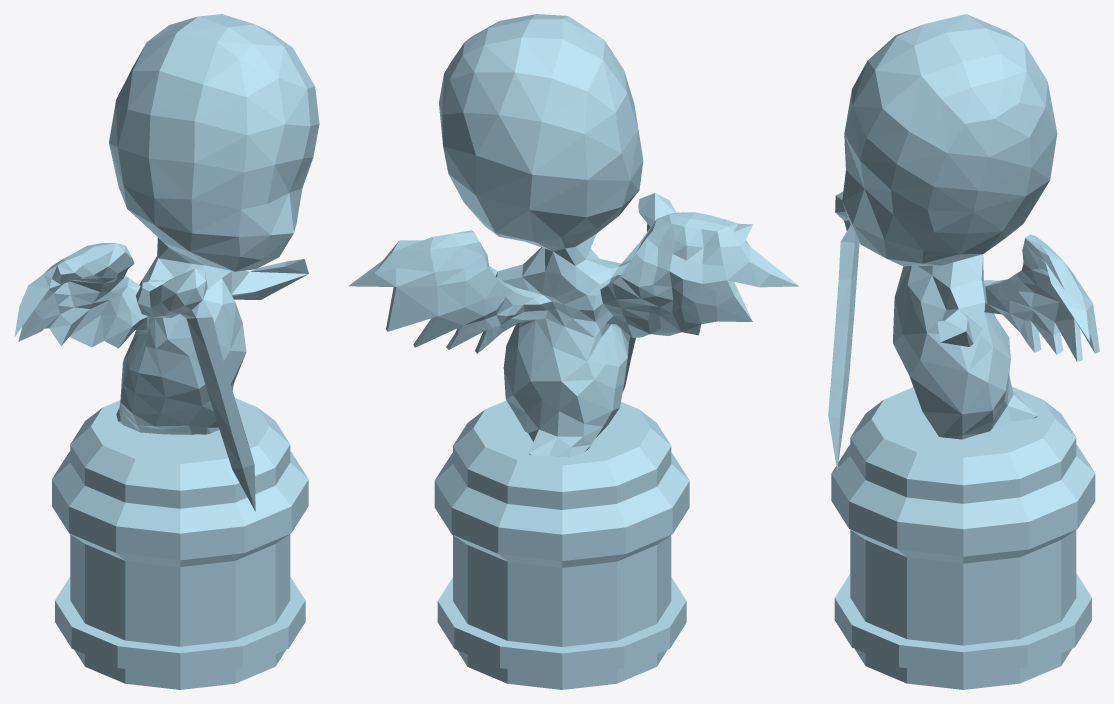
The model's file is Wing_Angel_Statue_01 (1).fbx.
3 views of the same model, side by side, from view 1: azimuth 30°, elevation 25°; view 2: azimuth 150°, elevation 25°; view 3: azimuth 270°, elevation 25° (orthographic). The views are drawn at different scales.
Parts seen in each view (by area): view 1: polySurface3; view 2: polySurface3; view 3: polySurface3.
Part boxes in pixels (box(x1,y1,x2,y2)): polySurface3: box(14, 14, 319, 689); polySurface3: box(348, 14, 799, 689); polySurface3: box(828, 14, 1099, 689).
Bounding box in the file's own units: 9.79 × 16.07 × 6.29.
Materials: 1 (1 with a texture image).
